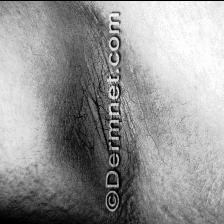Unclassified: (66, 61, 120, 158)
